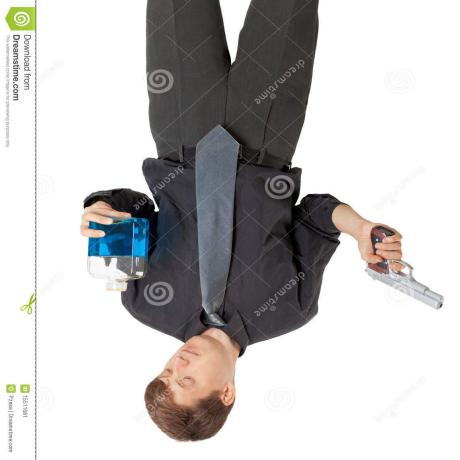1: (77, 0, 401, 442)
weapon: (358, 210, 452, 322)
